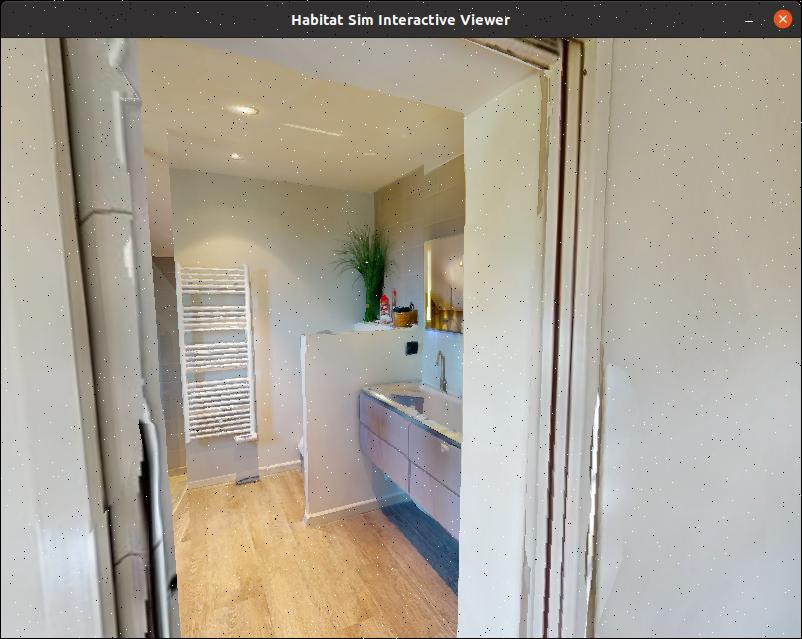door-frame: (29, 35, 604, 639)
sink: (377, 339, 488, 475)
